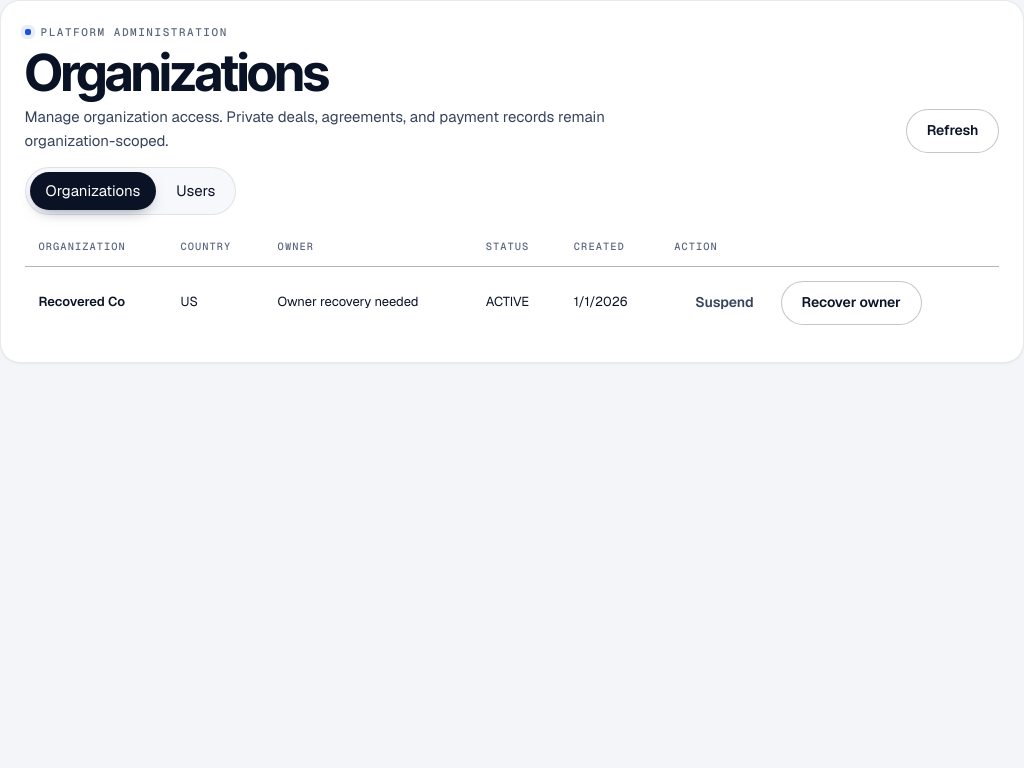
Test: PlatformOrganizationsPage owner recovery › assigns an active member as owner when the organization has none
This screenshot has width=1024, height=768.
Click the button "Recover owner".
click(851, 303)  # box [781,281,922,325]
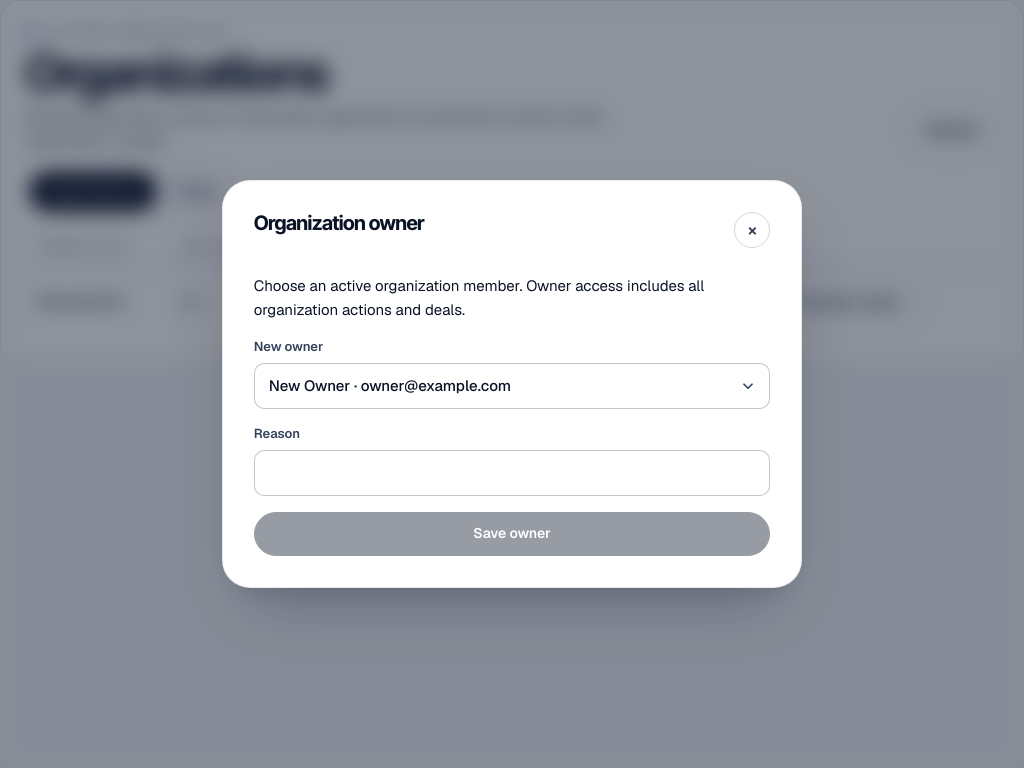
Result: the heading "Organization owner" is shown at [254,212,424,235]
Type "Owner account was removed" into the field labelled "Reason".
click(512, 473); type("Owner account was removed")  # box [254,450,770,496]
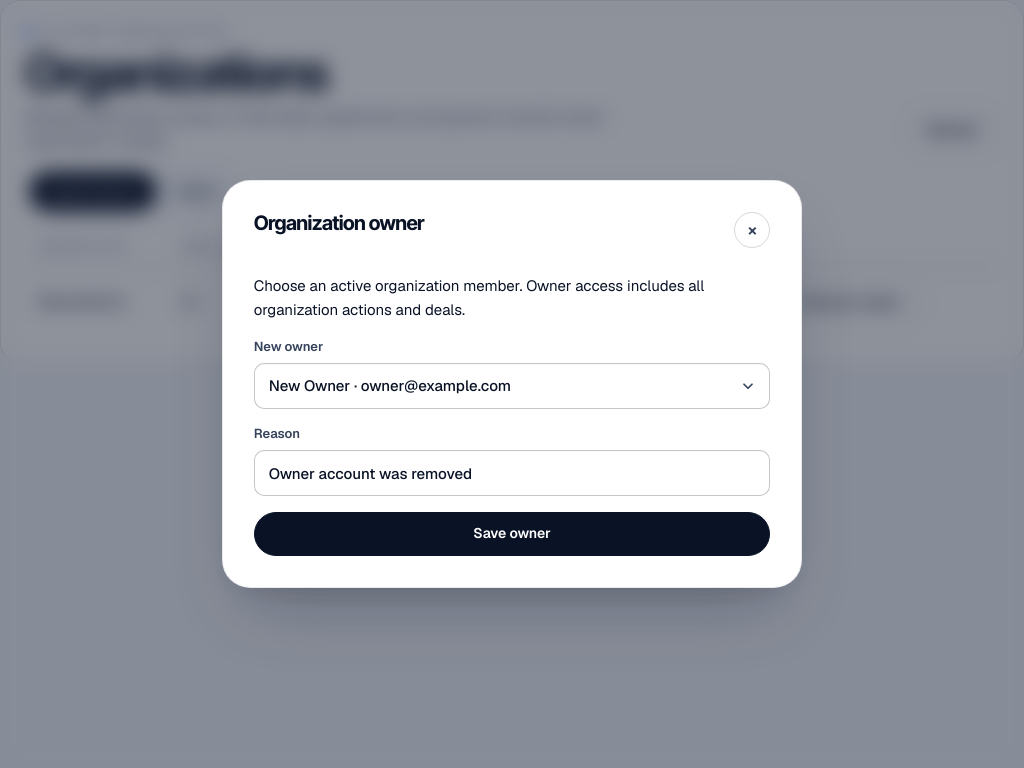
Click the button "Save owner".
click(512, 534)  # box [254,512,770,556]
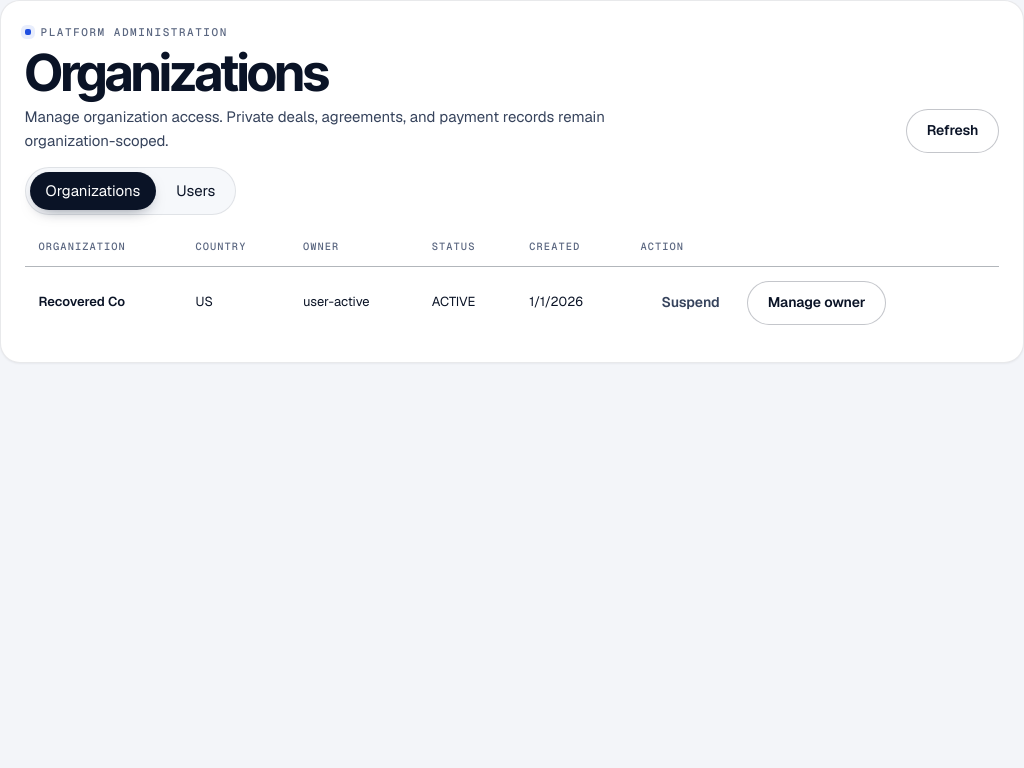
Result: the dialog is gone
Result: the text "user-active" is shown at [289,266,418,339]
